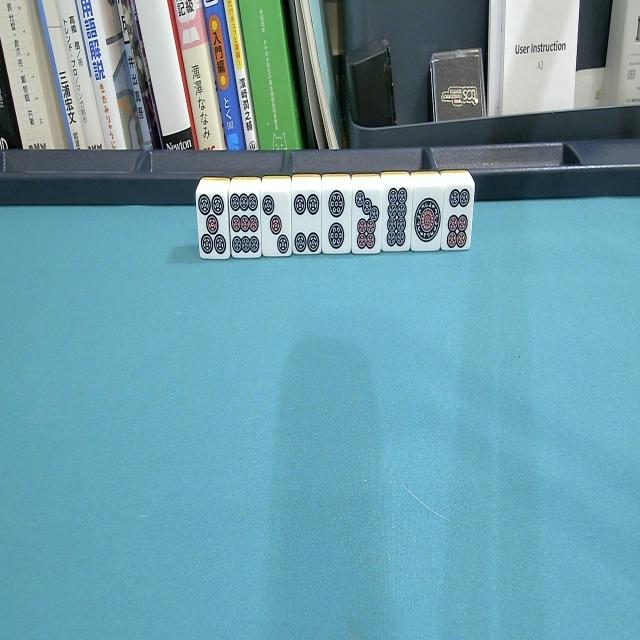1_pin: (408, 168, 445, 264)
2_pin: (317, 169, 355, 264)
3_pin: (256, 173, 296, 265)
4_pin: (286, 168, 326, 264)
5_pin: (192, 175, 234, 267)
6_pin: (438, 167, 476, 261)
7_pin: (348, 170, 384, 264)
8_pin: (378, 169, 414, 263)
9_pin: (225, 175, 265, 266)
